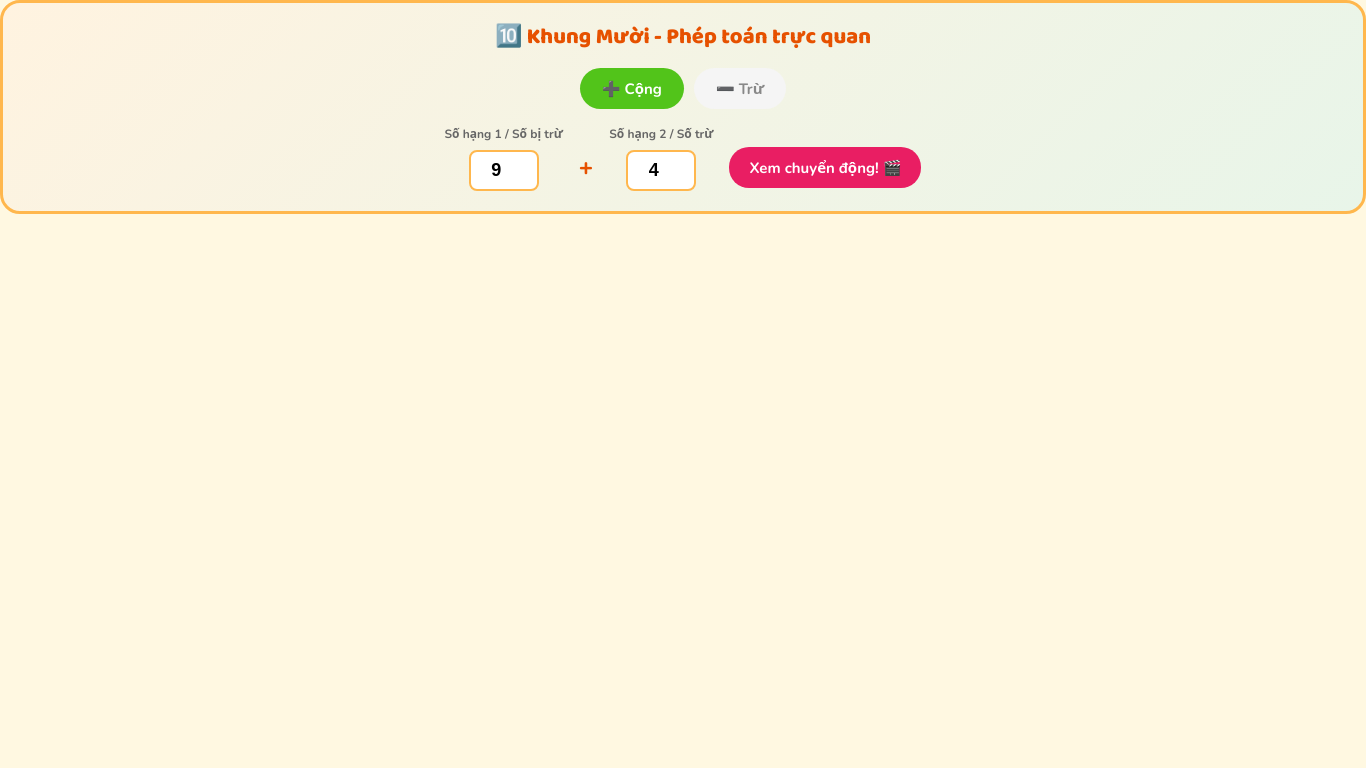
Test case: TenFrames visualizer › animates addition step-by-step
Step 1. Click the button with test id "btn-animate" → (825, 168), box [729, 147, 922, 188]
Wait 1800 ms
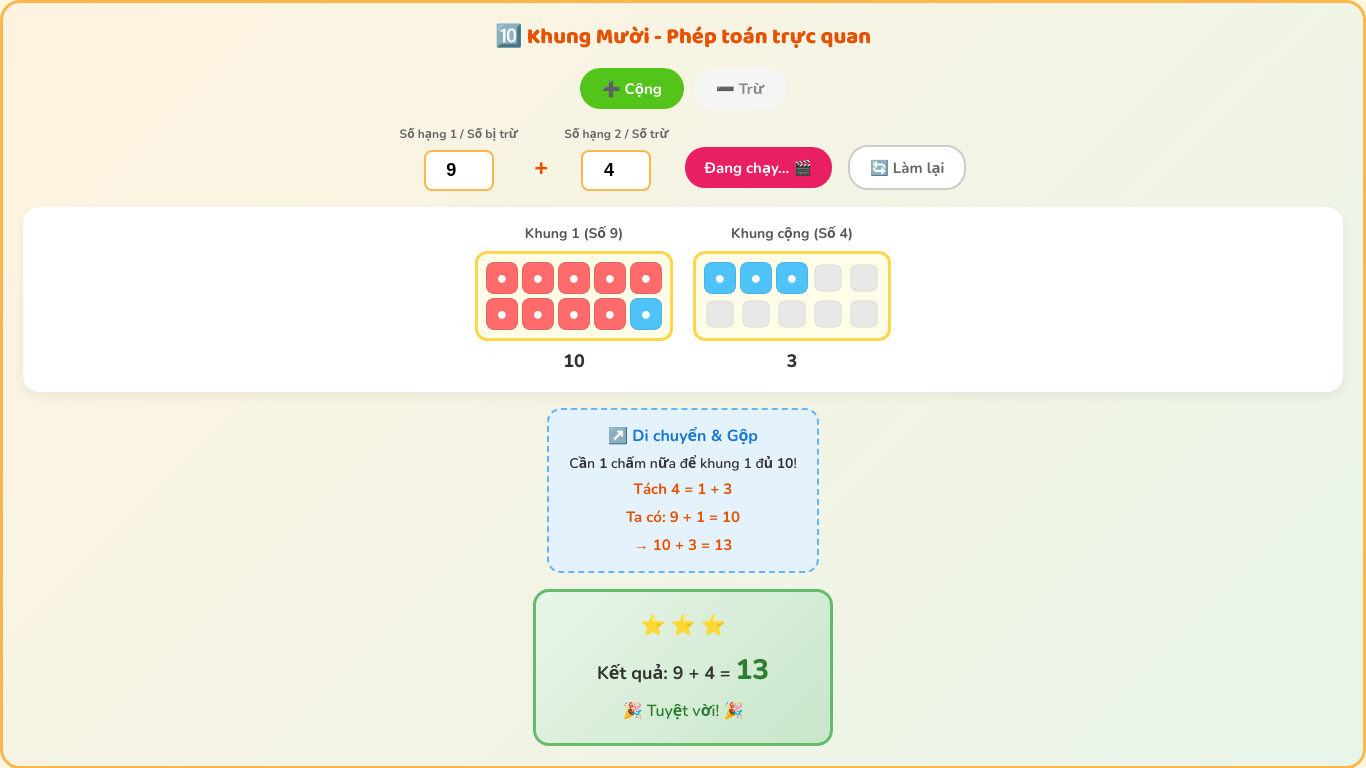
Now the element with test id "result-box" shows "Kết quả: 9 + 4 = 13", box [533, 589, 833, 746]
